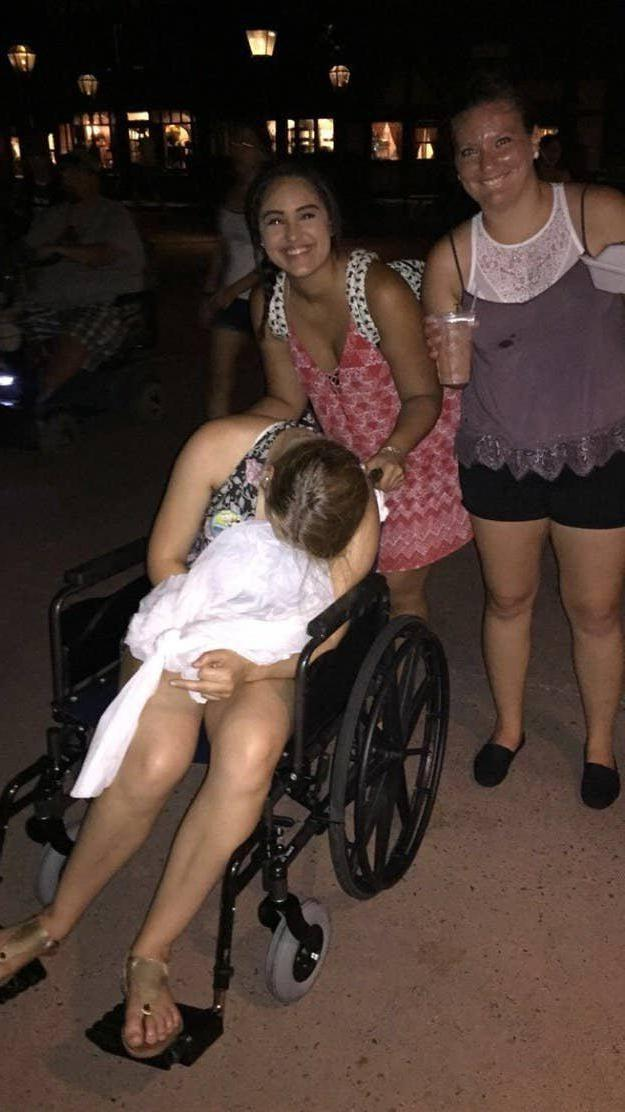Drunk: (451, 113, 529, 201), (261, 183, 330, 267)
